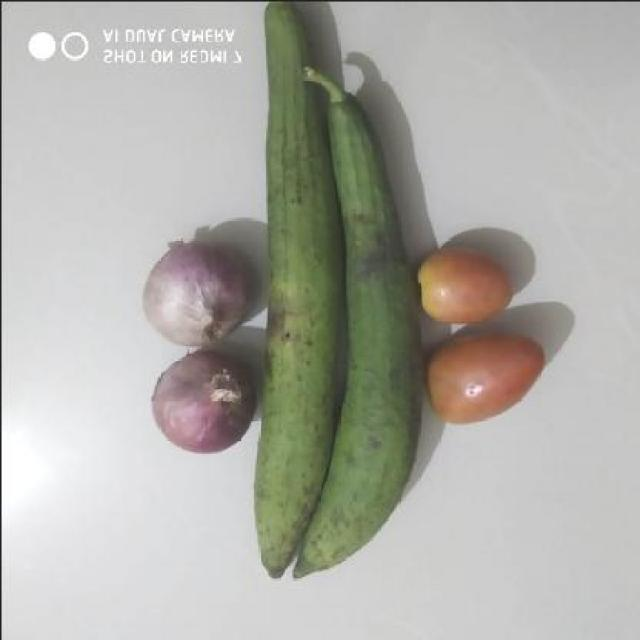Onion: (146, 349, 257, 460), (142, 236, 252, 346)
Sponge Gourd: (249, 0, 421, 612)
Tomato: (424, 318, 554, 431), (416, 244, 518, 330)
